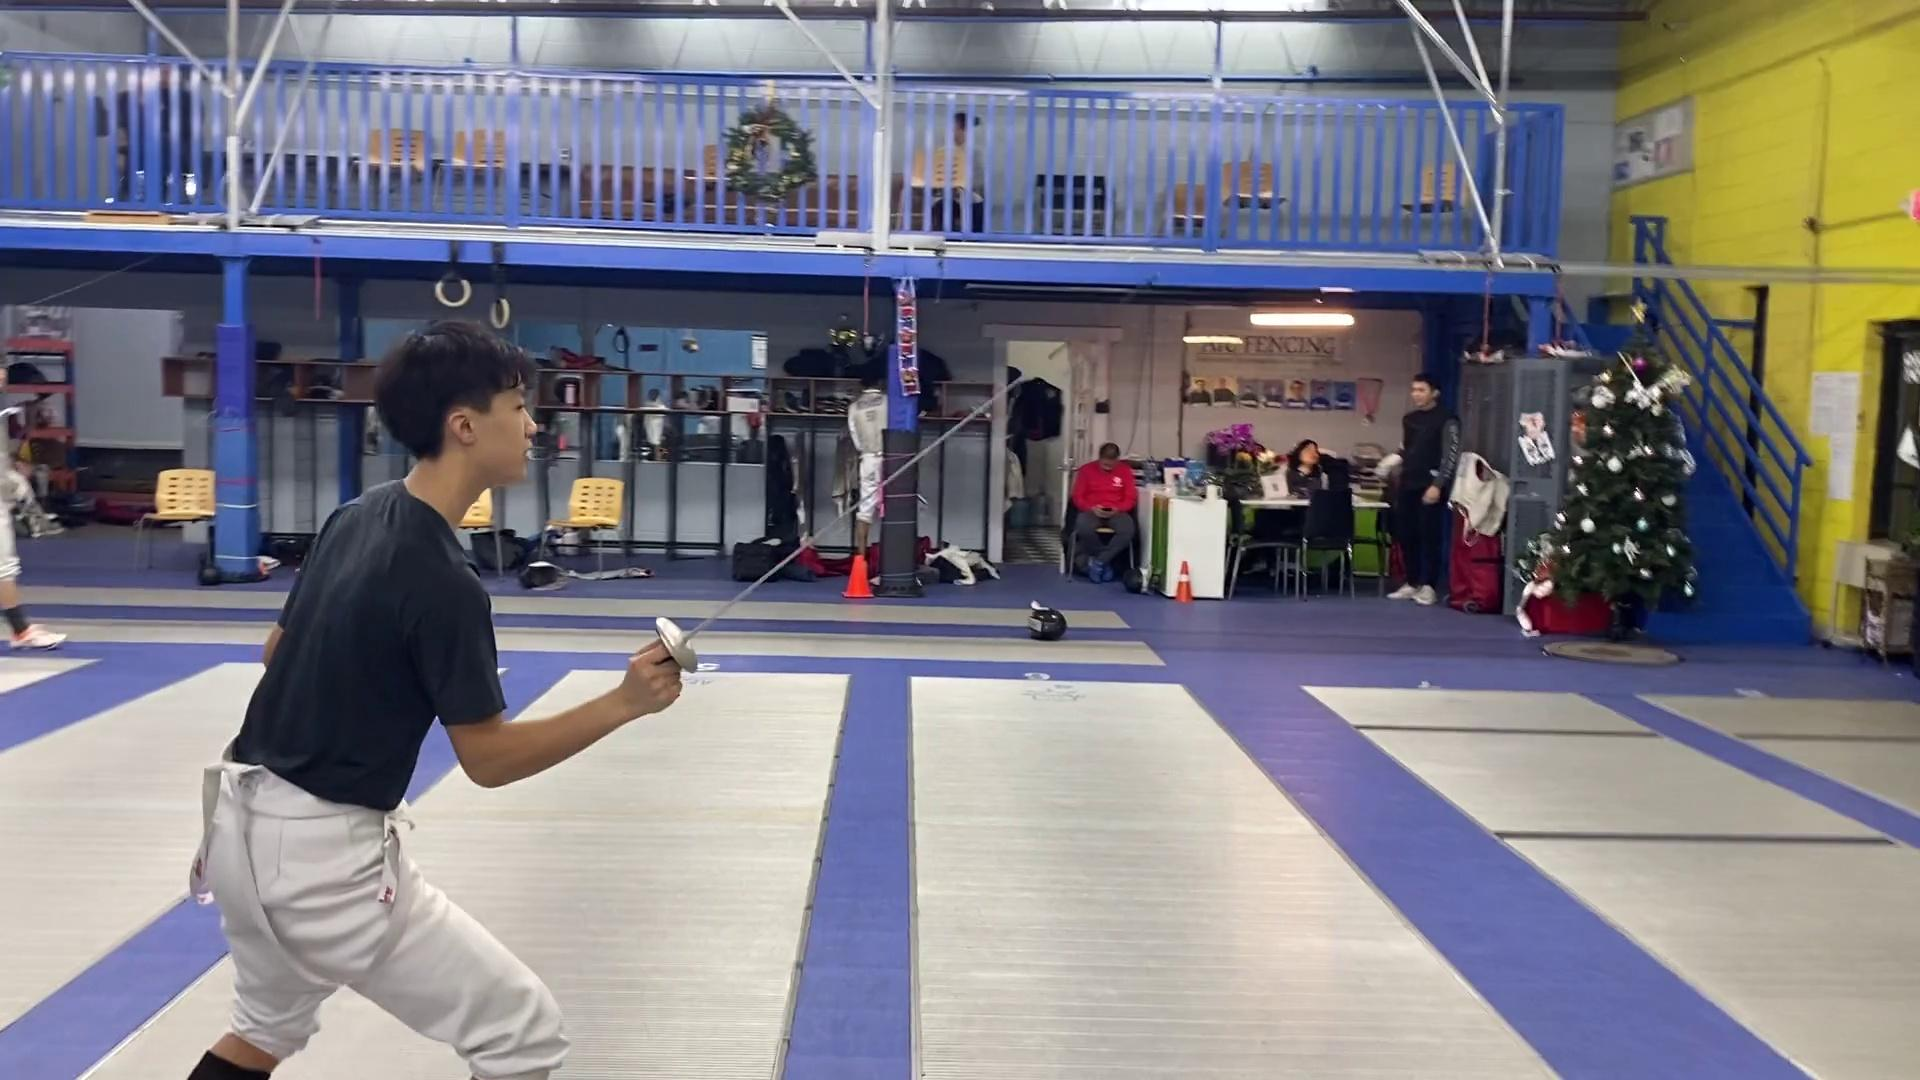blade-guard: (646, 611, 705, 680)
blade-tip: (1043, 266, 1168, 363)
fencing-blade: (638, 265, 1167, 682)
